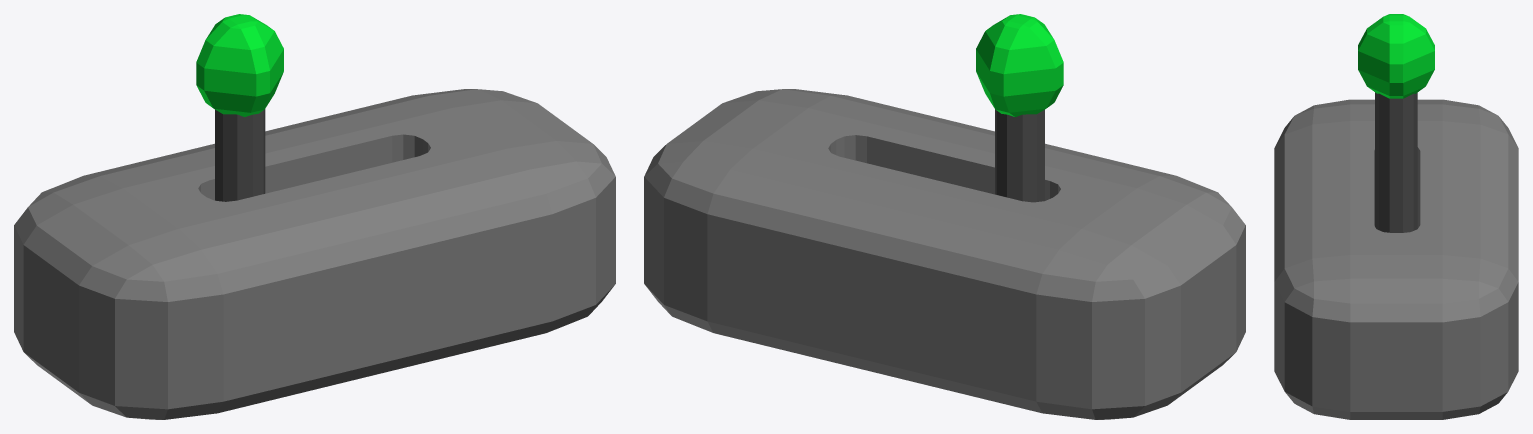
Rendered from controlSticksPole.fbx.
3 renders of one model, left to right at view 1: azimuth 30°, elevation 25°; view 2: azimuth 150°, elevation 25°; view 3: azimuth 270°, elevation 25°, orthographic. The views are drawn at different scales.
Parts seen in each view (by area): view 1: Cube, Cylinder.001; view 2: Cube, Cylinder.001; view 3: Cube, Cylinder.001.
Boxes of the visible parts, bbox=[...] form: Cube: bbox=[14, 89, 615, 419]; Cylinder.001: bbox=[196, 14, 283, 201]; Cube: bbox=[644, 89, 1245, 419]; Cylinder.001: bbox=[976, 14, 1063, 202]; Cube: bbox=[1274, 99, 1518, 419]; Cylinder.001: bbox=[1358, 14, 1434, 232].
Bounding box in the file's own units: 321 × 197 × 154.
